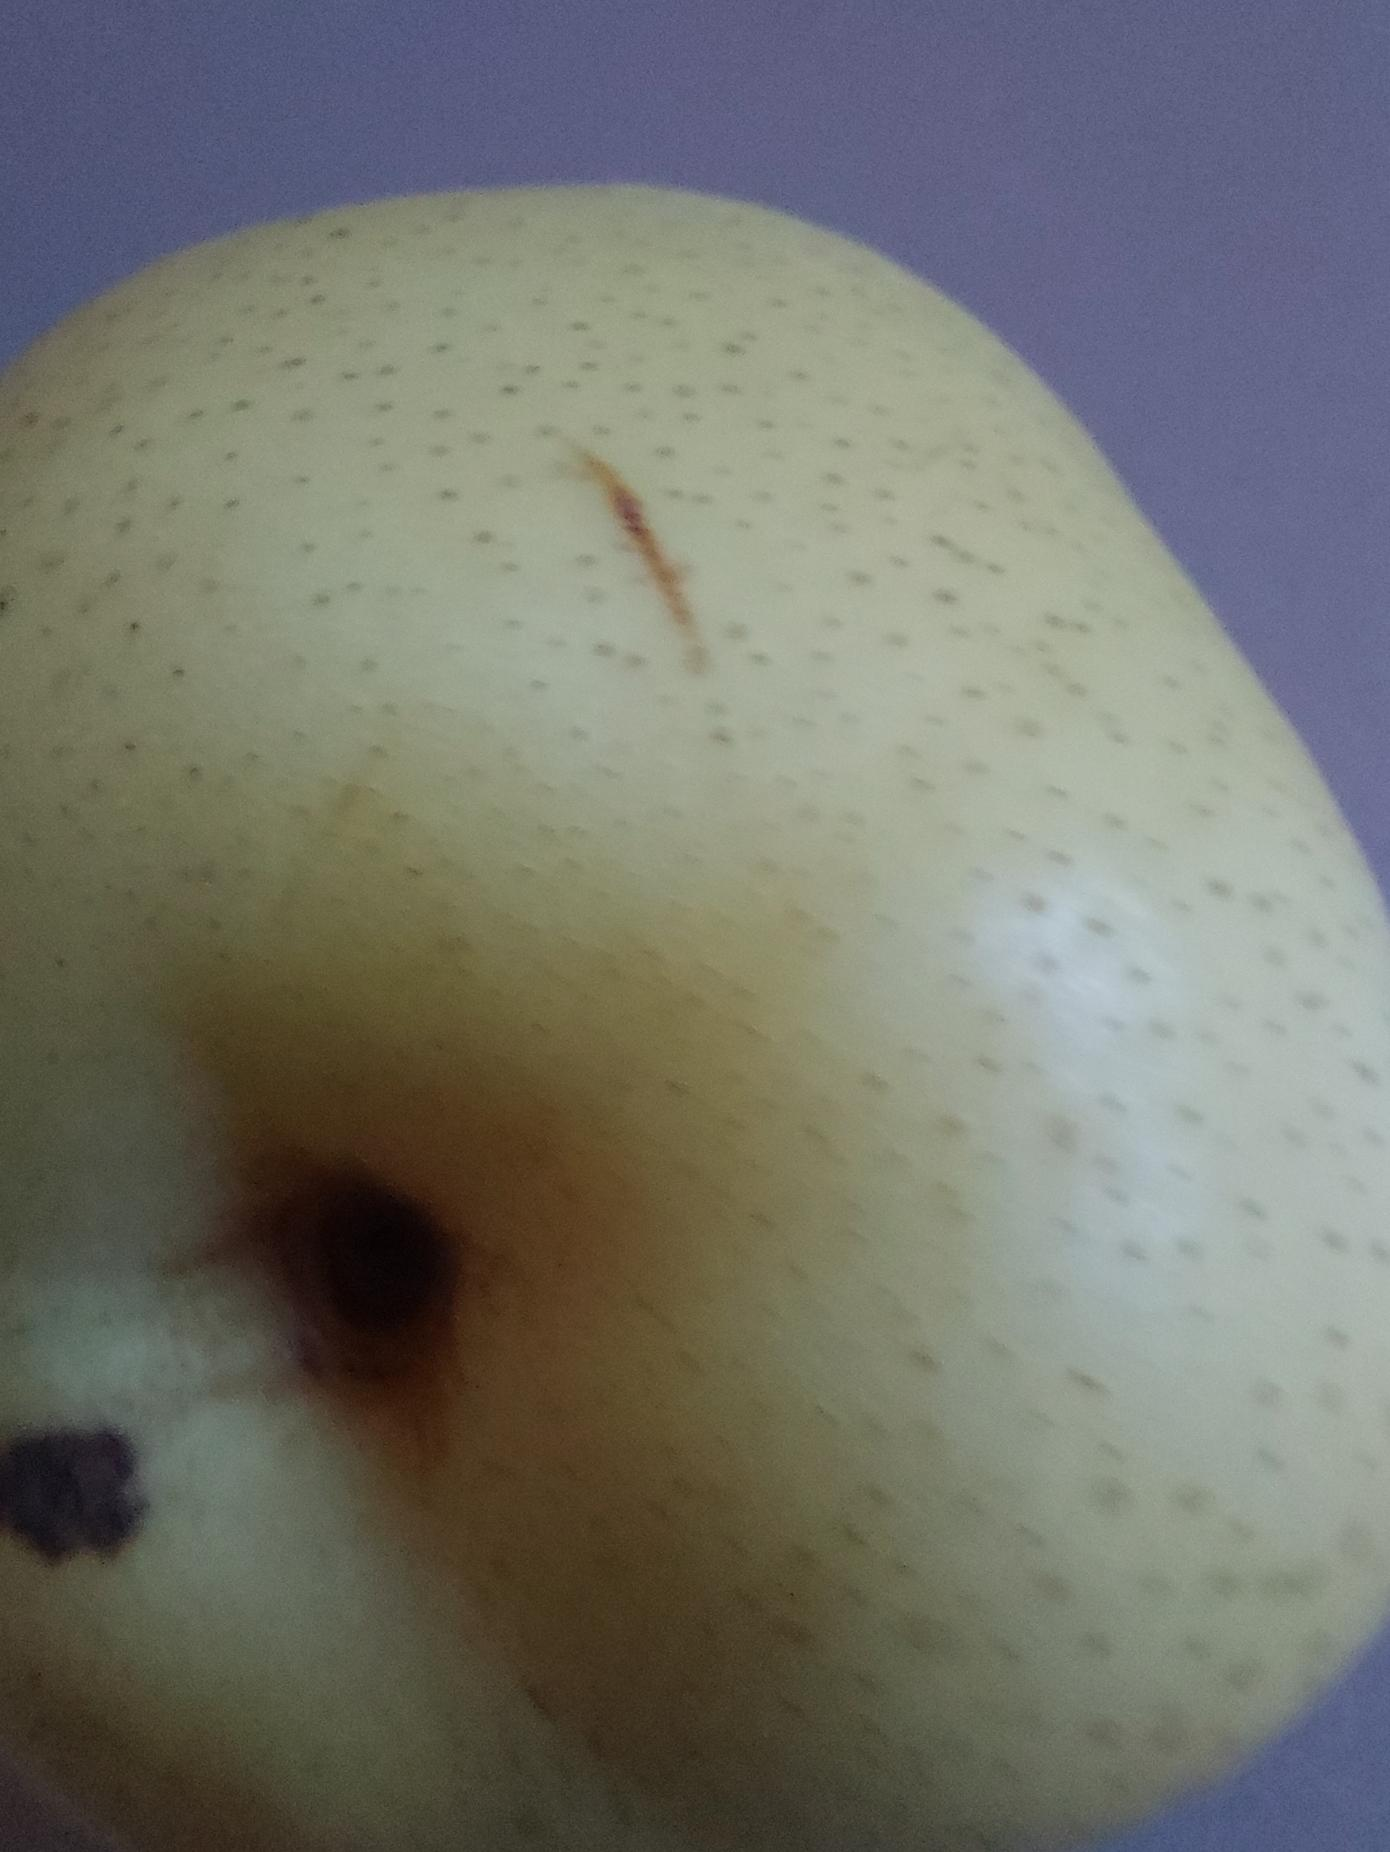Good Pear: (0, 163, 1390, 1852)
